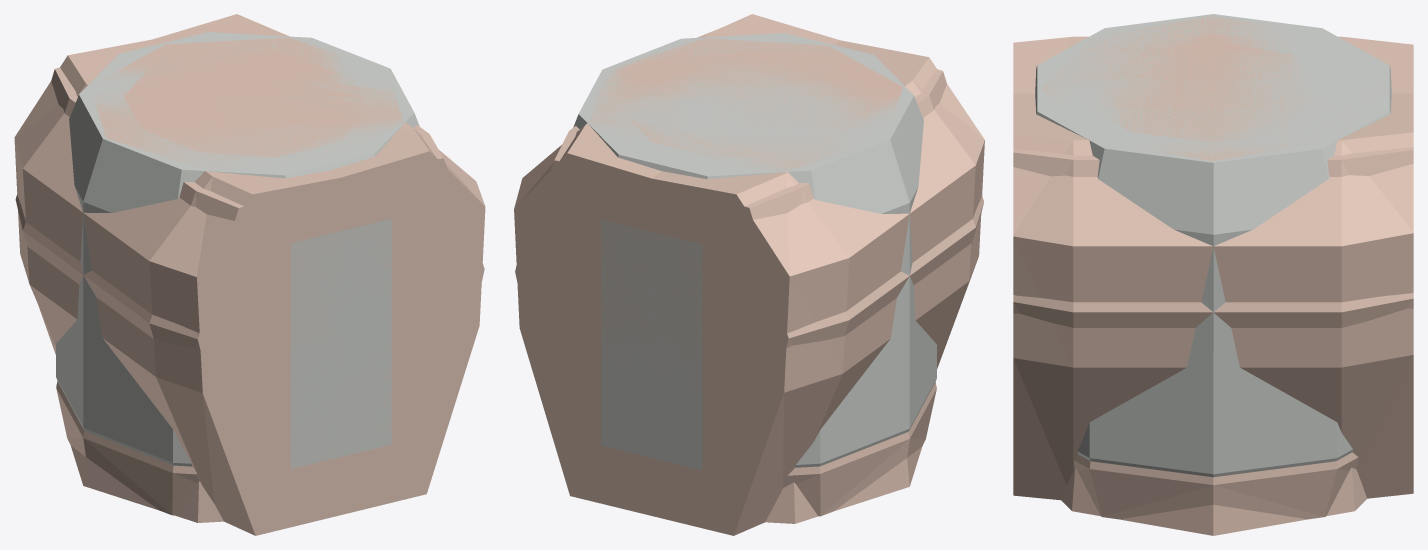
File: hand_operator.fbx
The picture shows the model from 3 angles, left to right: view 1: azimuth 30°, elevation 25°; view 2: azimuth 150°, elevation 25°; view 3: azimuth 270°, elevation 25°; orthographic projection. The views are drawn at different scales.
Parts seen in each view (by area): view 1: Left_palm, Left_cuff, Right_palm, Left_forearm, Left_finger0_distal, Left_finger0_tip; view 2: Left_palm, Left_cuff, Right_palm, Left_finger0_distal, Left_forearm, Left_finger0_tip; view 3: Right_palm, Left_cuff, Left_forearm, Left_palm, Left_finger0_distal, Left_finger0_tip.
Boxes of the visible parts, left/top/right/bottom form: Left_palm: left=14, top=35, right=484, bottom=535; Left_cuff: left=56, top=32, right=419, bottom=468; Right_palm: left=15, top=14, right=485, bottom=531; Left_forearm: left=56, top=52, right=369, bottom=515; Left_finger0_distal: left=71, top=37, right=403, bottom=522; Left_finger0_tip: left=146, top=70, right=348, bottom=146; Left_palm: left=515, top=29, right=984, bottom=535; Left_cuff: left=573, top=33, right=936, bottom=469; Right_palm: left=514, top=14, right=983, bottom=509; Left_finger0_distal: left=589, top=38, right=921, bottom=523; Left_forearm: left=626, top=51, right=936, bottom=516; Left_finger0_tip: left=645, top=75, right=840, bottom=145; Right_palm: left=1013, top=93, right=1413, bottom=500; Left_cuff: left=1035, top=14, right=1391, bottom=477; Left_forearm: left=1074, top=34, right=1358, bottom=519; Left_palm: left=1013, top=36, right=1413, bottom=327; Left_finger0_distal: left=1042, top=15, right=1384, bottom=535; Left_finger0_tip: left=1102, top=41, right=1310, bottom=135.
Bounding box in the file's own units: 100 × 100 × 100.
